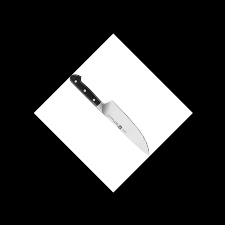k1: (94, 96, 150, 156)
